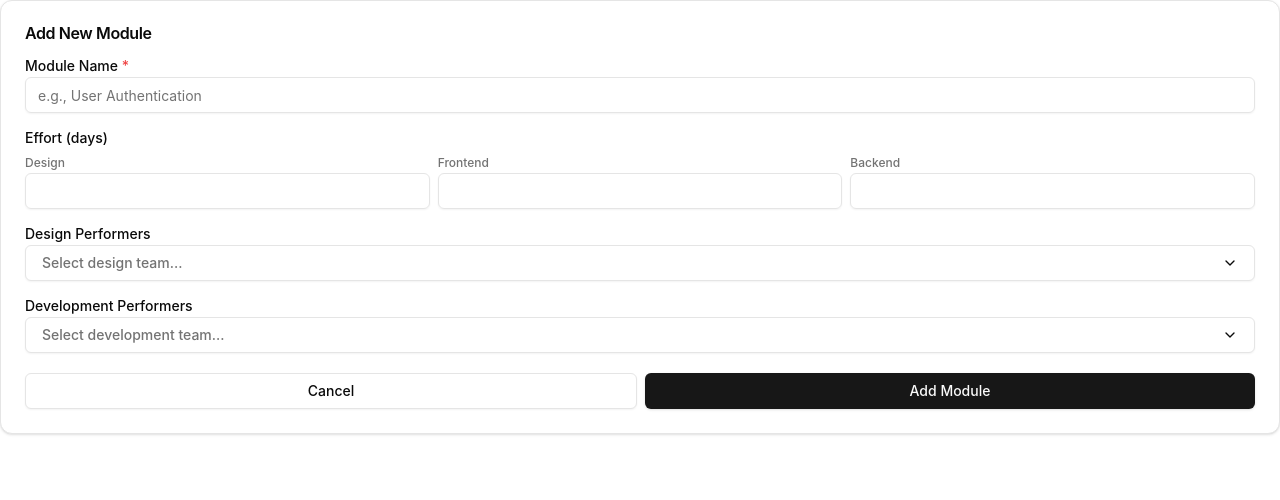
Test case: AddModuleForm › Validation › should show error when module name is empty
Click the button "Add Module".
click(950, 391)  # box [645,373,1255,409]
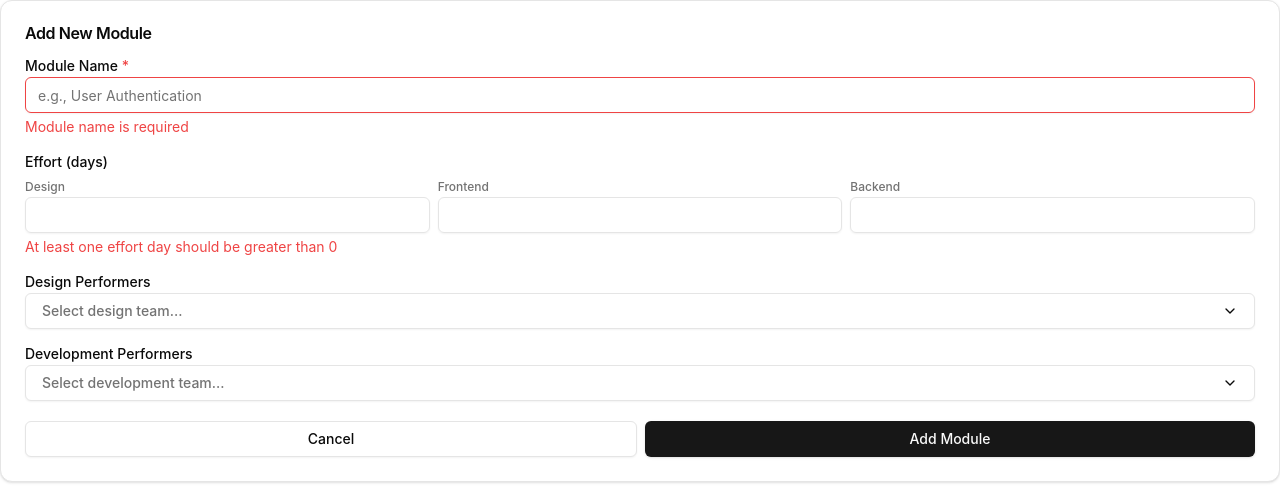
Expected: the text "Module name is required" is shown, [25,118,189,135]
